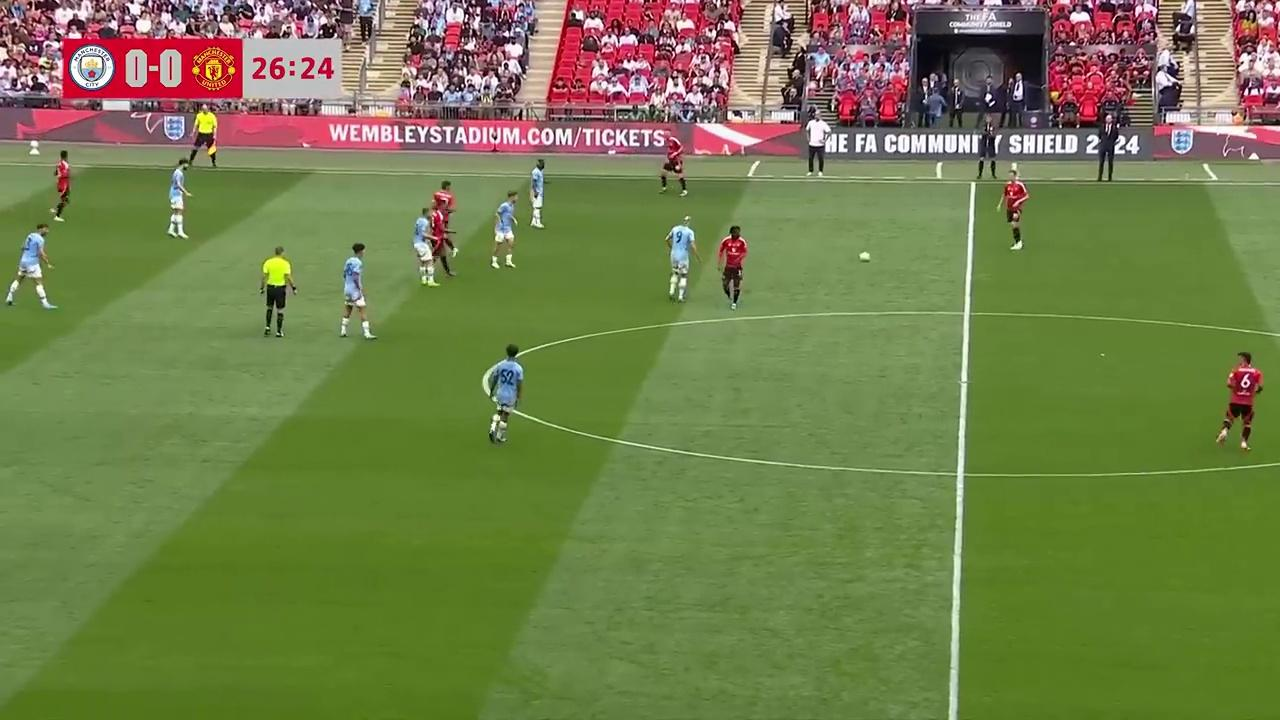ball: (857, 247, 872, 263)
player: (1214, 352, 1263, 451), (3, 223, 56, 309), (482, 345, 524, 444), (339, 242, 377, 339), (665, 215, 696, 302), (429, 182, 457, 272), (997, 171, 1029, 249), (718, 224, 747, 309), (430, 200, 457, 283), (658, 124, 689, 195), (490, 192, 518, 269), (166, 159, 192, 239), (413, 205, 439, 285), (51, 150, 72, 221), (528, 159, 545, 228)
referee: (258, 247, 296, 338), (192, 105, 219, 169)
